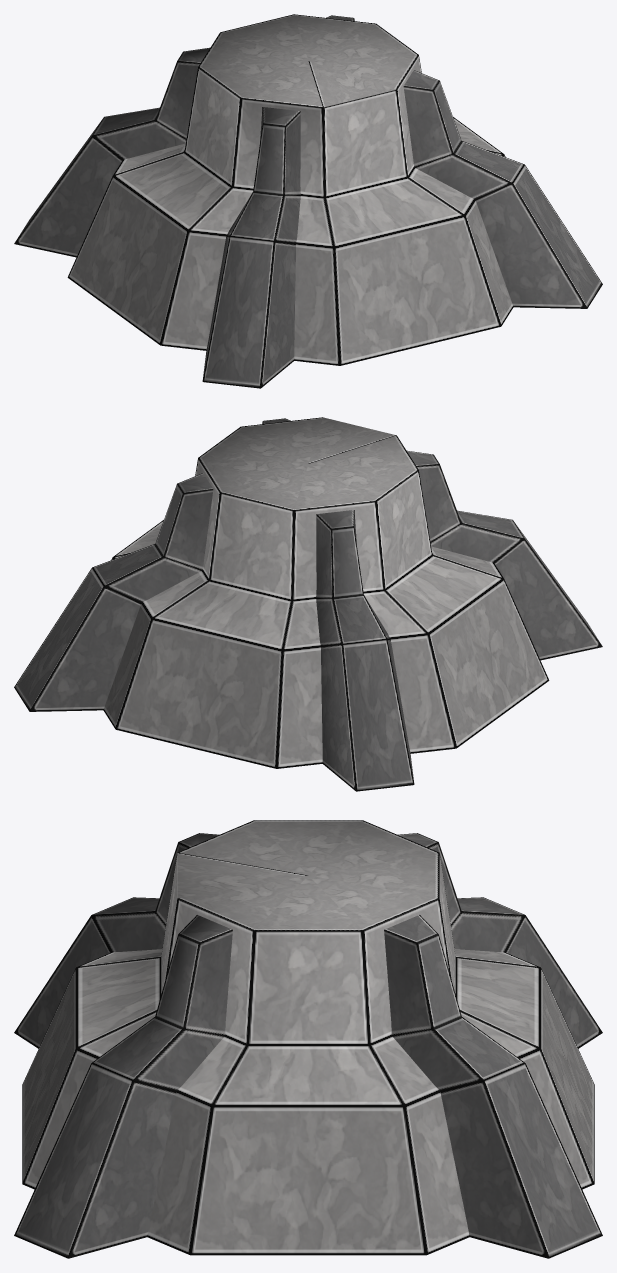
Rendered from Gun Turret_Base.fbx.
The picture shows the model from 3 angles, top to bottom: view 1: azimuth 30°, elevation 25°; view 2: azimuth 150°, elevation 25°; view 3: azimuth 270°, elevation 25°; orthographic projection. The views are drawn at different scales.
Parts seen in each view (by area): view 1: polySurface90; view 2: polySurface90; view 3: polySurface90.
Part boxes in pixels (bbox=[...]): polySurface90: bbox=[14, 14, 602, 388]; polySurface90: bbox=[14, 417, 602, 791]; polySurface90: bbox=[14, 820, 602, 1258].
Bounding box in the file's own units: 83.72 × 40.59 × 83.72.
Materials: 1 (1 with a texture image).
